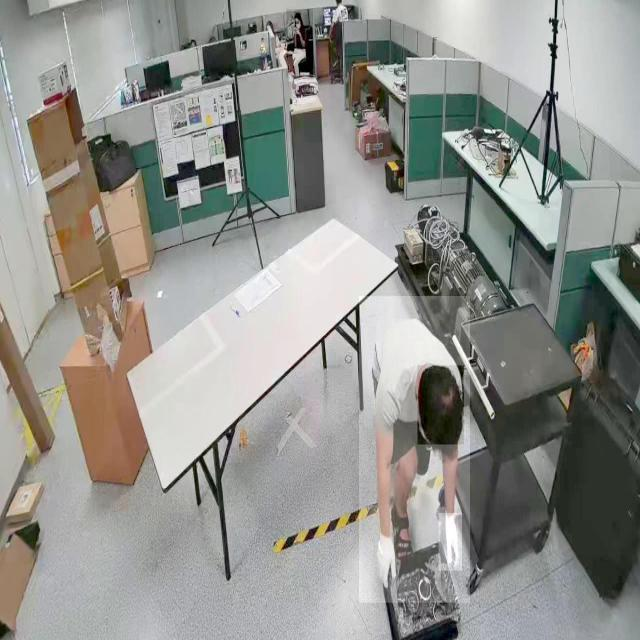hand_glove: (373, 531, 399, 589), (438, 513, 462, 571)
hand_noglove: (294, 26, 300, 34)
head_nohelmet: (418, 366, 464, 446), (294, 12, 301, 18)
person: (359, 296, 471, 604), (286, 9, 314, 78)
